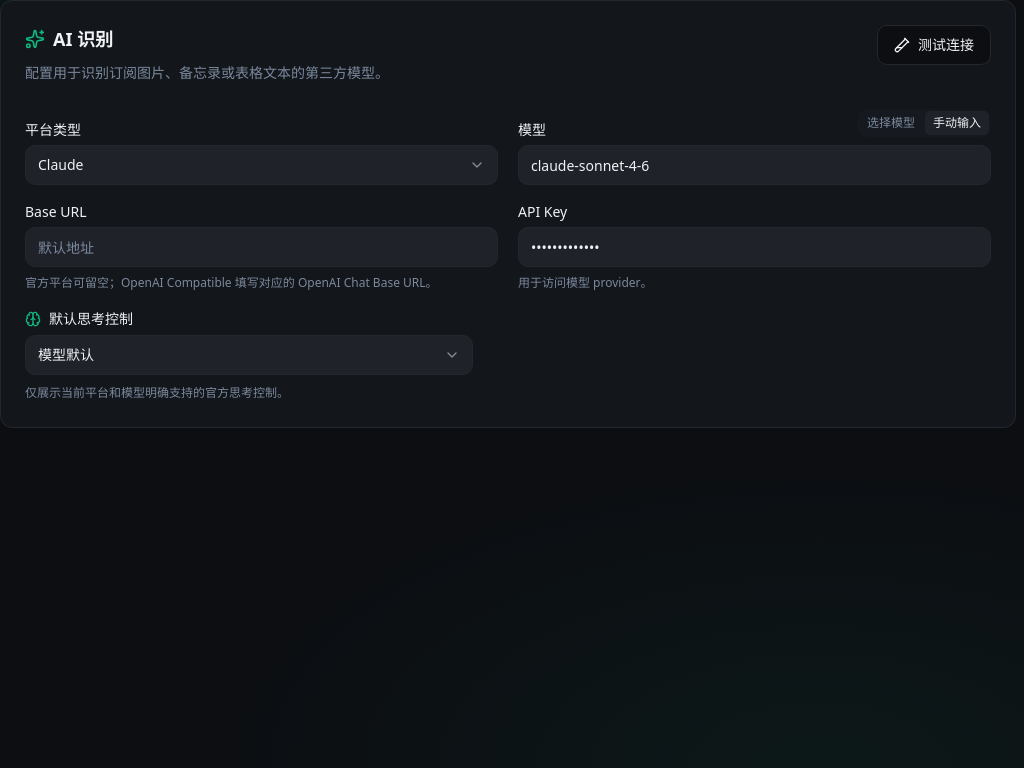
Test: AIRecognitionSettingsSection provider model layout › opens provider response details when model loading fails
Click the button "选择模型": (891, 123) [859,111,923,135]
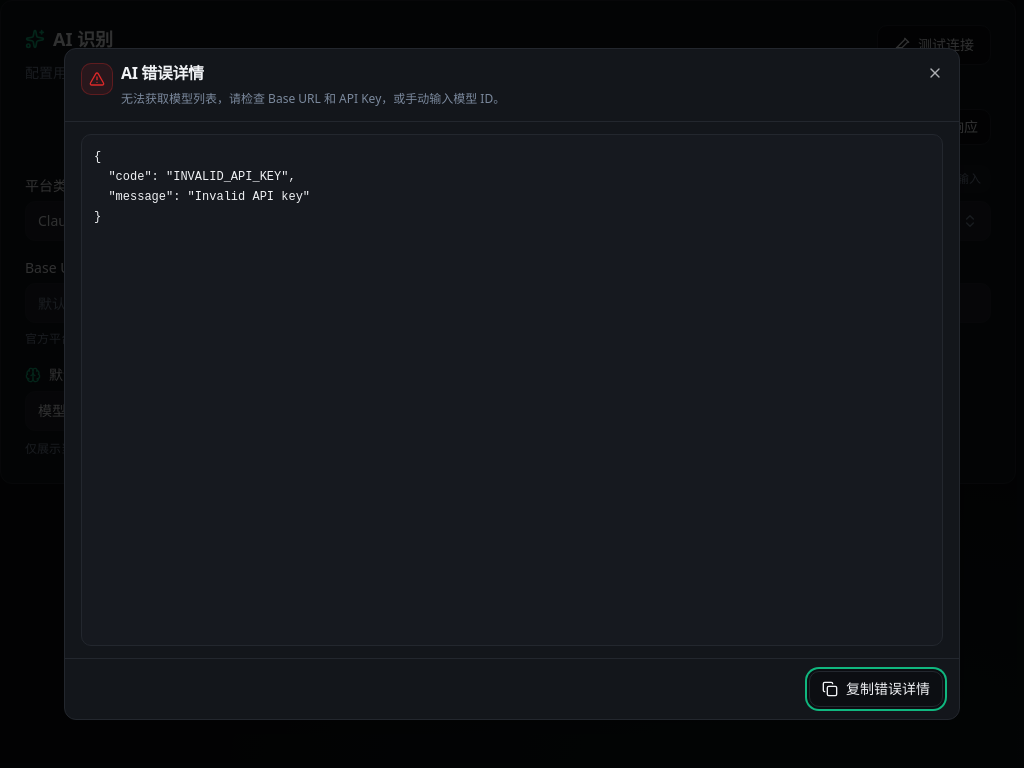
Check: the dialog "AI 错误详情" shows "INVALID_API_KEY", box [94,150,310,224]
Check: the dialog "AI 错误详情" shows "Invalid API key", box [94,150,310,224]
